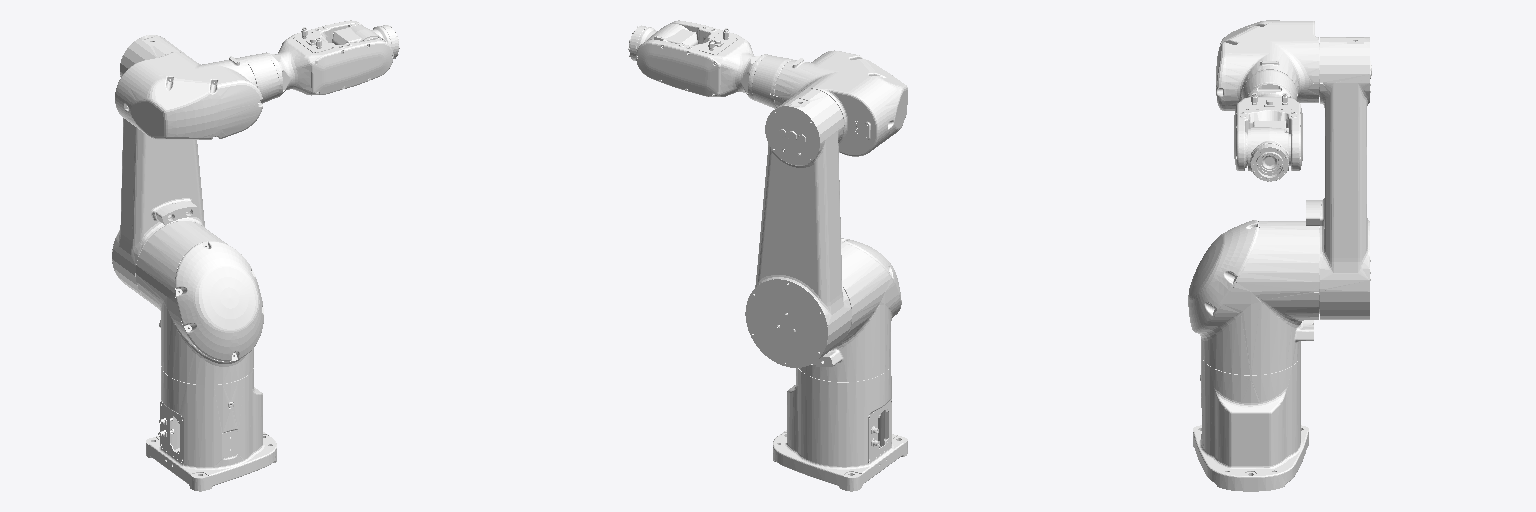
The robot description file, URDF, robot "ER10-900":
<?xml version="1.0" encoding="utf-8"?>
<!-- This URDF was automatically created by SolidWorks to URDF Exporter! Originally created by [author] ([email redacted]) 
     Commit Version: 1.6.0-1-g15f4949  Build Version: 1.6.7594.29634
     For more information, please see http://wiki.ros.org/sw_urdf_exporter -->
<robot
  name="ER10-900">
  <link
    name="base_link">
    <inertial>
      <origin
        xyz="0.019114 0.081873 0.46057"
        rpy="0 0 0" />
      <mass
        value="47.471" />
      <inertia
        ixx="4.0956"
        ixy="0.060807"
        ixz="-0.34534"
        iyy="4.1877"
        iyz="-0.53722"
        izz="0.95215" />
    </inertial>
    <visual>
      <origin
        xyz="0 0 0"
        rpy="0 0 0" />
      <geometry>
        <mesh
          filename="meshes/base_link.STL" />
      </geometry>
      <material
        name="">
        <color
          rgba="1 1 1 1" />
      </material>
    </visual>
    <collision>
      <origin
        xyz="0 0 0"
        rpy="0 0 0" />
      <geometry>
        <mesh
          filename="meshes/base_link.STL" />
      </geometry>
    </collision>
  </link>
  <link
    name="1_Link">
    <inertial>
      <origin
        xyz="-0.019114 -0.081873 0.21557"
        rpy="0 0 0" />
      <mass
        value="47.471" />
      <inertia
        ixx="4.0956"
        ixy="0.060807"
        ixz="0.34534"
        iyy="4.1877"
        iyz="0.53722"
        izz="0.95215" />
    </inertial>
    <visual>
      <origin
        xyz="0 0 0"
        rpy="0 0 0" />
      <geometry>
        <mesh
          filename="meshes/1_Link.STL" />
      </geometry>
      <material
        name="">
        <color
          rgba="1 1 1 1" />
      </material>
    </visual>
    <collision>
      <origin
        xyz="0 0 0"
        rpy="0 0 0" />
      <geometry>
        <mesh
          filename="meshes/1_Link.STL" />
      </geometry>
    </collision>
  </link>
  <joint
    name="1"
    type="revolute">
    <origin
      xyz="0 0 0.245"
      rpy="0 0 3.1416" />
    <parent
      link="base_link" />
    <child
      link="1_Link" />
    <axis
      xyz="0 0 1" />
    <limit effort="1000" velocity="10"/>
    <dynamics damping="0.0" friction="0.0"/>
  </joint>
  <link
    name="2_Link">
    <inertial>
      <origin
        xyz="0.020567 0.019114 0.081873"
        rpy="0 0 0" />
      <mass
        value="47.471" />
      <inertia
        ixx="0.95215"
        ixy="-0.34534"
        ixz="-0.53722"
        iyy="4.0956"
        iyz="0.060807"
        izz="4.1877" />
    </inertial>
    <visual>
      <origin
        xyz="0 0 0"
        rpy="0 0 0" />
      <geometry>
        <mesh
          filename="meshes/2_Link.STL" />
      </geometry>
      <material
        name="">
        <color
          rgba="1 1 1 1" />
      </material>
    </visual>
    <collision>
      <origin
        xyz="0 0 0"
        rpy="0 0 0" />
      <geometry>
        <mesh
          filename="meshes/2_Link.STL" />
      </geometry>
    </collision>
  </link>
  <joint
    name="2"
    type="revolute">
    <origin
      xyz="0 0 0.195"
      rpy="1.5708 -1.5708 0" />
    <parent
      link="1_Link" />
    <child
      link="2_Link" />
    <axis
      xyz="0 0 1" />
    <limit effort="1000" velocity="10"/>
    <dynamics damping="0.0" friction="0.0"/>
  </joint>
  <link
    name="3_Link">
    <inertial>
      <origin
        xyz="-0.43919 0.034062 -0.062127"
        rpy="0 0 0" />
      <mass
        value="47.471" />
      <inertia
        ixx="0.95215"
        ixy="-0.34534"
        ixz="-0.53722"
        iyy="4.0956"
        iyz="0.060807"
        izz="4.1877" />
    </inertial>
    <visual>
      <origin
        xyz="0 0 0"
        rpy="0 0 0" />
      <geometry>
        <mesh
          filename="meshes/3_Link.STL" />
      </geometry>
      <material
        name="">
        <color
          rgba="1 1 1 1" />
      </material>
    </visual>
    <collision>
      <origin
        xyz="0 0 0"
        rpy="0 0 0" />
      <geometry>
        <mesh
          filename="meshes/3_Link.STL" />
      </geometry>
    </collision>
  </link>
  <joint
    name="3"
    type="revolute">
    <origin
      xyz="0.45976 -0.014948 0.144"
      rpy="0 0 0" />
    <parent
      link="2_Link" />
    <child
      link="3_Link" />
    <axis
      xyz="0 0 1" />
    <limit effort="1000" velocity="10"/>
    <dynamics damping="0.0" friction="0.0"/>
  </joint>
  <link
    name="4_Link">
    <inertial>
      <origin
        xyz="0.004661 -0.00013021 -0.1506"
        rpy="0 0 0" />
      <mass
        value="0.95099" />
      <inertia
        ixx="0.0046263"
        ixy="-6.5348E-06"
        ixz="0.0001313"
        iyy="0.0048722"
        iyz="1.0499E-05"
        izz="0.0023795" />
    </inertial>
    <visual>
      <origin
        xyz="0 0 0"
        rpy="0 0 0" />
      <geometry>
        <mesh
          filename="meshes/4_Link.STL" />
      </geometry>
      <material
        name="">
        <color
          rgba="1 1 1 1" />
      </material>
    </visual>
    <collision>
      <origin
        xyz="0 0 0"
        rpy="0 0 0" />
      <geometry>
        <mesh
          filename="meshes/4_Link.STL" />
      </geometry>
    </collision>
  </link>
  <joint
    name="4"
    type="revolute">
    <origin
      xyz="0.0066828 0.15255 -0.104"
      rpy="1.6146 1.5708 0" />
    <parent
      link="3_Link" />
    <child
      link="4_Link" />
    <axis
      xyz="0 0 1" />
    <limit effort="1000" velocity="10"/>
    <dynamics damping="0.0" friction="0.0"/>
  </joint>
  <link
    name="5_Link">
    <inertial>
      <origin
        xyz="-0.40552 0.45845 0.045373"
        rpy="0 0 0" />
      <mass
        value="47.471" />
      <inertia
        ixx="4.0956"
        ixy="0.34534"
        ixz="0.060807"
        iyy="0.95215"
        iyz="0.53722"
        izz="4.1877" />
    </inertial>
    <visual>
      <origin
        xyz="0 0 0"
        rpy="0 0 0" />
      <geometry>
        <mesh
          filename="meshes/5_Link.STL" />
      </geometry>
      <material
        name="">
        <color
          rgba="1 1 1 1" />
      </material>
    </visual>
    <collision>
      <origin
        xyz="0 0 0"
        rpy="0 0 0" />
      <geometry>
        <mesh
          filename="meshes/5_Link.STL" />
      </geometry>
    </collision>
  </link>
  <joint
    name="5"
    type="revolute">
    <origin
      xyz="0.0035 0 -0.2873"
      rpy="1.5708 1.527 -1.5708" />
    <parent
      link="4_Link" />
    <child
      link="5_Link" />
    <axis
      xyz="0 0 1" />
    <limit effort="1000" velocity="10"/>
    <dynamics damping="0.0" friction="0.0"/>
  </joint>
  <link
    name="6_Link">
    <inertial>
      <origin
        xyz="0.041873 -0.45531 -0.48303"
        rpy="0 0 0" />
      <mass
        value="47.471" />
      <inertia
        ixx="4.1877"
        ixy="-0.53767"
        ixz="0.056669"
        iyy="0.95765"
        iyz="-0.3695"
        izz="4.0901" />
    </inertial>
    <visual>
      <origin
        xyz="0 0 0"
        rpy="0 0 0" />
      <geometry>
        <mesh
          filename="meshes/6_Link.STL" />
      </geometry>
      <material
        name="">
        <color
          rgba="1 1 1 1" />
      </material>
    </visual>
    <collision>
      <origin
        xyz="0 0 0"
        rpy="0 0 0" />
      <geometry>
        <mesh
          filename="meshes/6_Link.STL" />
      </geometry>
    </collision>
  </link>
  <joint
    name="6"
    type="revolute">
    <origin
      xyz="0.073998 -0.00056975 0.0035"
      rpy="0.0076995 -1.5708 0" />
    <parent
      link="5_Link" />
    <child
      link="6_Link" />
    <axis
      xyz="0 0 1" />
    <limit effort="1000" velocity="10"/>
    <dynamics damping="0.0" friction="0.0"/>
  </joint>
</robot>

--- What the picture shows (computed from the rendered views, not written in the file) ---
3 views of the same robot in one strip: view 1: azimuth 30°, elevation 25°; view 2: azimuth 150°, elevation 25°; view 3: azimuth 270°, elevation 25° (orthographic).
Robot: ER10-900 — 7 links, 6 joints (6 revolute); root link base_link; default pose: every joint at zero.
Visible links, largest first — view 1: 1_Link, base_link, 3_Link, 2_Link, 4_Link, 5_Link; view 2: 2_Link, base_link, 3_Link, 4_Link, 1_Link, 5_Link; view 3: 1_Link, 2_Link, base_link, 3_Link, 4_Link, 5_Link.
Boxes of the visible links, bbox=[...] form: 1_Link: bbox=[136, 221, 263, 384]; base_link: bbox=[146, 366, 276, 491]; 3_Link: bbox=[115, 52, 262, 139]; 2_Link: bbox=[112, 35, 204, 298]; 4_Link: bbox=[240, 20, 393, 103]; 5_Link: bbox=[332, 23, 399, 58]; 2_Link: bbox=[745, 89, 851, 367]; base_link: bbox=[773, 366, 907, 491]; 3_Link: bbox=[774, 50, 907, 156]; 4_Link: bbox=[636, 20, 792, 108]; 1_Link: bbox=[786, 238, 901, 381]; 5_Link: bbox=[628, 24, 697, 60]; 1_Link: bbox=[1188, 220, 1319, 374]; 2_Link: bbox=[1306, 37, 1371, 319]; base_link: bbox=[1193, 355, 1308, 491]; 3_Link: bbox=[1216, 20, 1318, 110]; 4_Link: bbox=[1234, 70, 1302, 170]; 5_Link: bbox=[1250, 121, 1288, 181].
Size in the robot's own frame: 0.6723 by 0.387 by 0.9882 metres.
7 mesh visuals loaded from 7 distinct referenced files (7 binary STL).